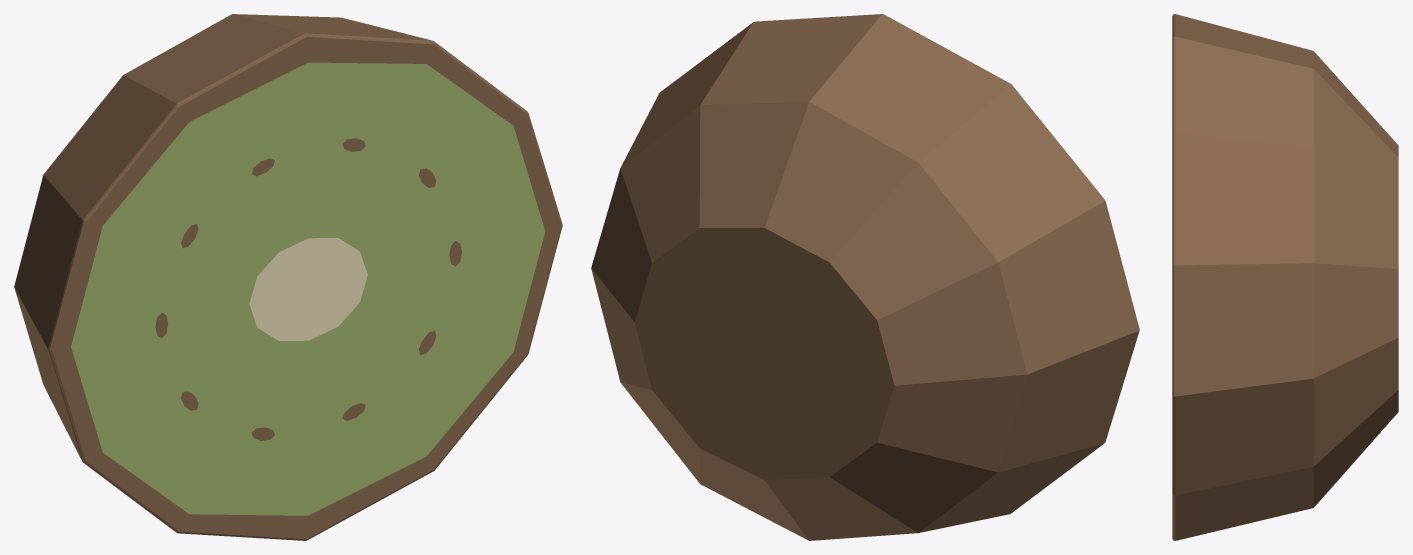
The model's file is Kiwi_Half.glb.
3 views of the same model, side by side, from view 1: azimuth 30°, elevation 25°; view 2: azimuth 150°, elevation 25°; view 3: azimuth 270°, elevation 25° (orthographic). The views are drawn at different scales.
Visible parts, largest first — view 1: Kiwi_Half; view 2: Kiwi_Half; view 3: Kiwi_Half.
Boxes of the visible parts, bbox=[...] form: Kiwi_Half: bbox=[14, 14, 562, 540]; Kiwi_Half: bbox=[591, 14, 1139, 540]; Kiwi_Half: bbox=[1172, 14, 1398, 540].
Bounding box in the file's own units: 0.0518 × 0.0489 × 0.0212.
